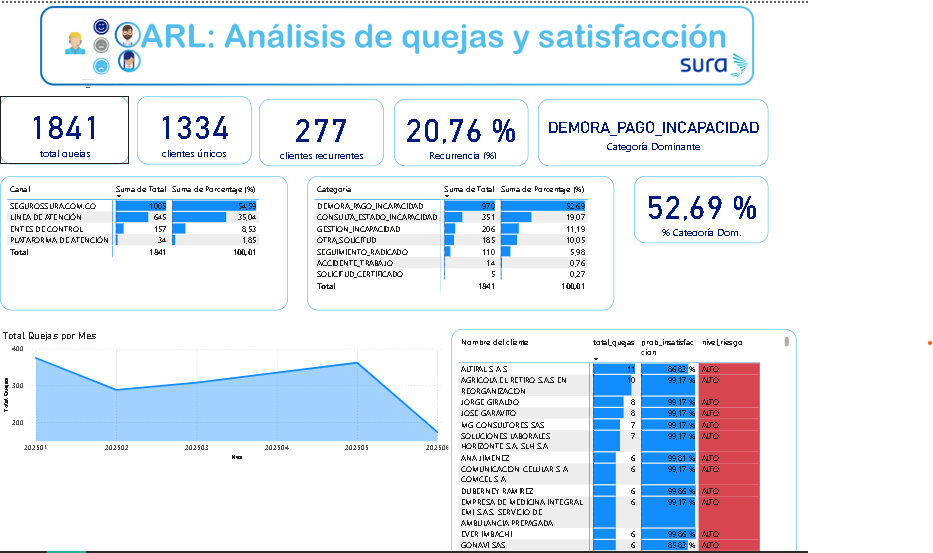

This screenshot's page, from the dashboard's own definition file:
{"tool":"powerbi","page":{"name":"informe gneral","canvas":[1350,1100],"ordinal":0},"visuals":[{"type":"pivotTable","fields":{"Rows":["Por Canal.Canal"],"Values":["Sum(Por Canal.Total)","Sum(Por Canal.Porcentaje (%))"]},"box":[0,288,480,224],"z":1000},{"type":"pivotTable","fields":{"Rows":["Por Categoría.Categoría"],"Values":["Sum(Por Categoría.Total)","Sum(Por Categoría.Porcentaje (%))"]},"box":[512,288,512,224],"z":2000},{"type":"card","fields":{"Values":["Sum(Resumen General.Tasa de Recurrencia (%))"]},"box":[656,160,224,112],"z":3000},{"type":"card","fields":{"Values":["Sum(Resumen General.Total Quejas)"]},"box":[0,155.5,215.3,113.6],"z":4000},{"type":"card","fields":{"Values":["Sum(Resumen General.Clientes Únicos)"]},"box":[228.7,155.5,191.4,113.6],"z":5000},{"type":"card","fields":{"Values":["Sum(Resumen General.Clientes Recurrentes)"]},"box":[432,160,208,112],"z":6000},{"type":"card","fields":{"Values":["Sum(Resumen General.% Categoría Dominante)"]},"box":[1056,288,224,112],"z":7000},{"type":"card","fields":{"Values":["Min(Resumen General.Categoría Dominante)"]},"box":[896,160,384,112],"z":9000},{"type":"stackedAreaChart","fields":{"Category":["Quejas por Mes.Mes"],"Y":["Sum(Quejas por Mes.Total Quejas)"]},"box":[0,544,752,224],"z":9001},{"type":"pivotTable","fields":{"Rows":["Sheet1.Nombre del cliente"],"Values":["Sum(Sheet1.total_quejas)","Sum(Sheet1.prob_insatisfaccion)","Min(Sheet1.nivel_riesgo)"]},"box":[752,544,576,512],"z":9002},{"type":"image","box":[0,0,1344,144],"z":9003}]}

Visuals, with their boxes on the page's 1350x1100 design canvas (x1, y1, x2, y2). These are canvas units, not pixel positions in the 933x553 screenshot, which may show the page scaled, cropped or inside an application window:
pivotTable - Por Canal.Canal x Sum(Por Canal.Total): box(0, 288, 480, 512)
pivotTable - Por Categoría.Categoría x Sum(Por Categoría.Total): box(512, 288, 1024, 512)
card - Sum(Resumen General.Tasa de Recurrencia (%)): box(656, 160, 880, 272)
card - Sum(Resumen General.Total Quejas): box(0, 156, 215, 269)
card - Sum(Resumen General.Clientes Únicos): box(229, 156, 420, 269)
card - Sum(Resumen General.Clientes Recurrentes): box(432, 160, 640, 272)
card - Sum(Resumen General.% Categoría Dominante): box(1056, 288, 1280, 400)
card - Min(Resumen General.Categoría Dominante): box(896, 160, 1280, 272)
stackedAreaChart - Quejas por Mes.Mes x Sum(Quejas por Mes.Total Quejas): box(0, 544, 752, 768)
pivotTable - Sheet1.Nombre del cliente x Sum(Sheet1.total_quejas): box(752, 544, 1328, 1056)
image: box(0, 0, 1344, 144)
